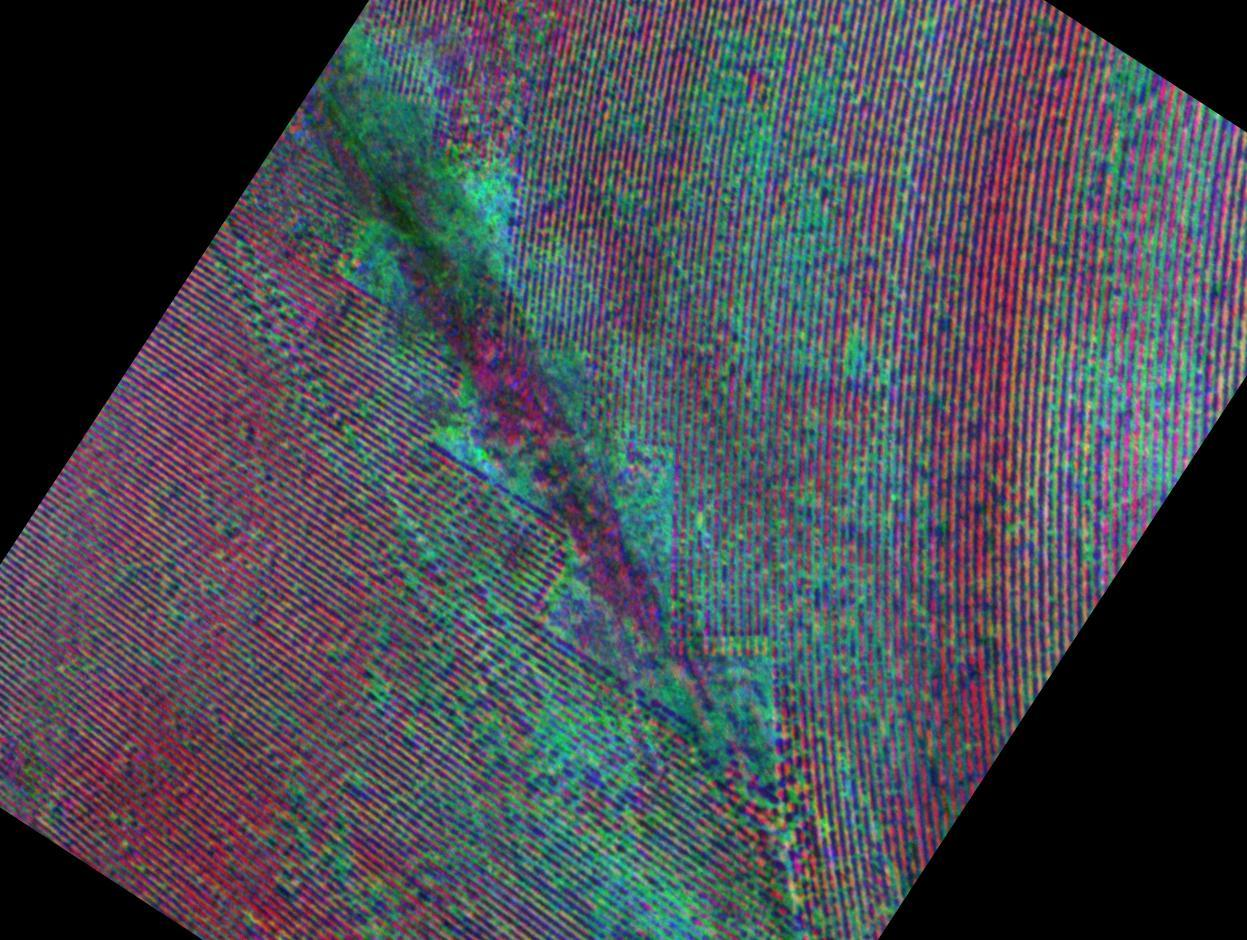dc: (606, 843, 700, 940), (356, 63, 443, 137), (713, 90, 775, 159), (466, 170, 515, 232), (544, 692, 590, 752)
